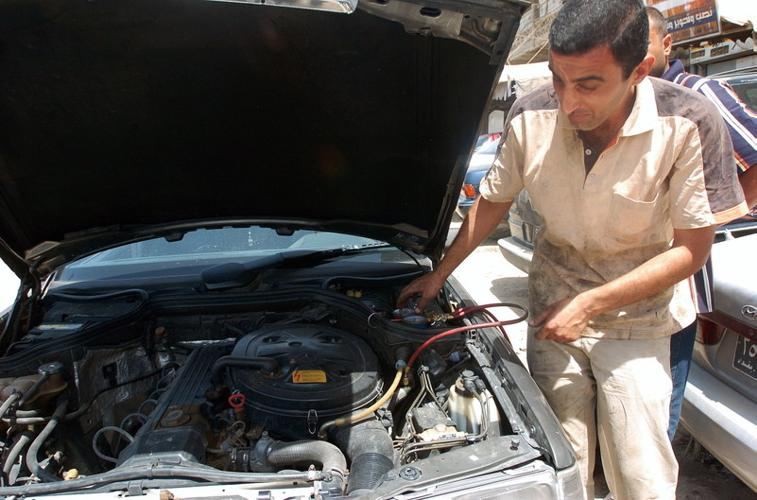person: (401, 1, 726, 500)
